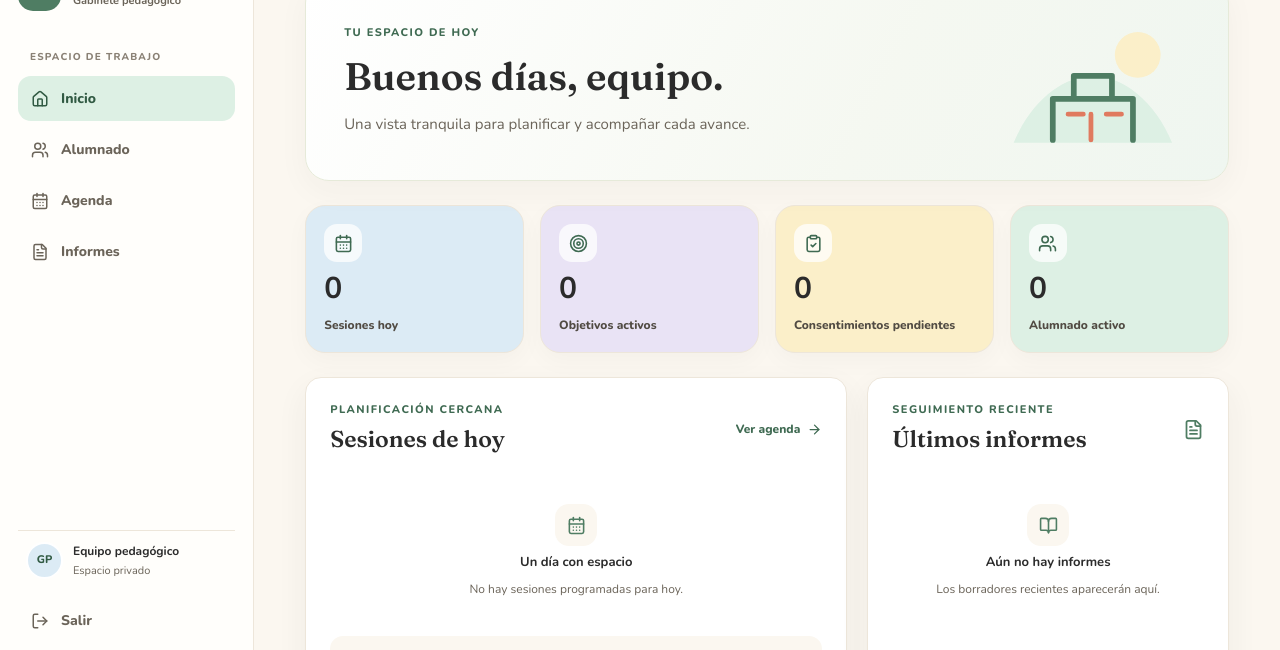
Apoyo › hides material adaptation when the adapter is disabled
What coordinates should you click on to do the following:
click the button "Alumnado"
I would click on:
 (126, 150)
Its box is [18, 127, 235, 172].
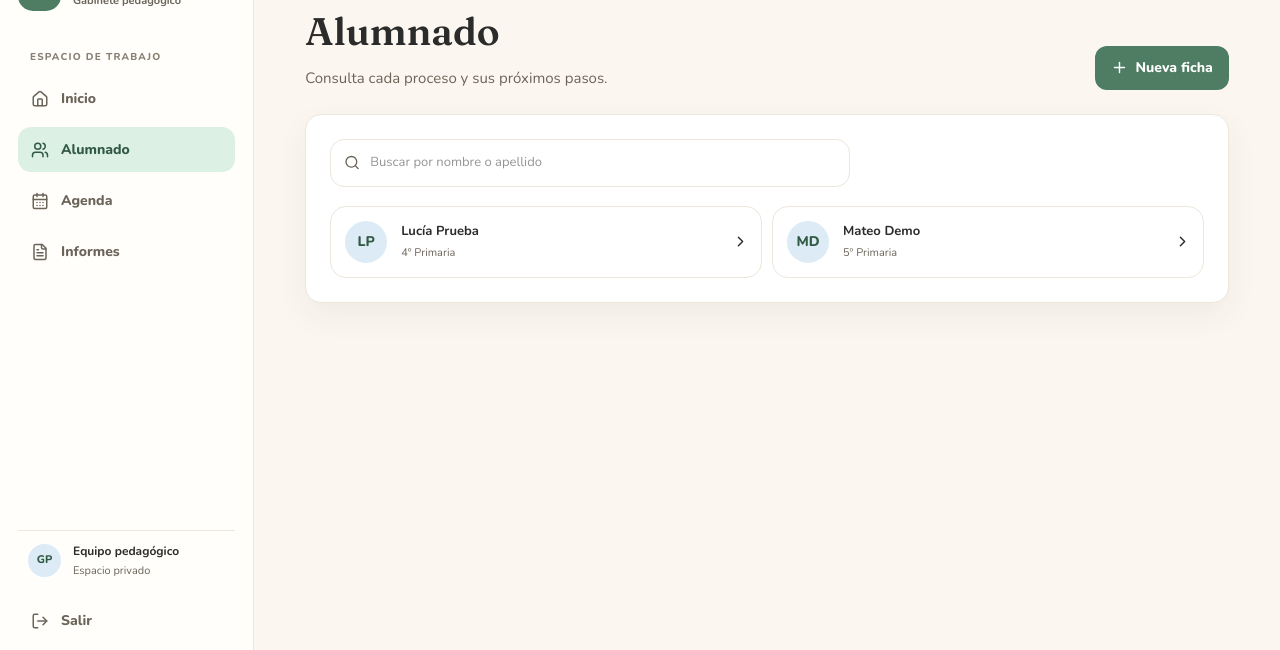
Now the text "Lucía Prueba" is shown
What coordinates should you click on to do the following:
click the text "Lucía Prueba"
I would click on:
 (440, 231)
Its box is [401, 222, 479, 240].
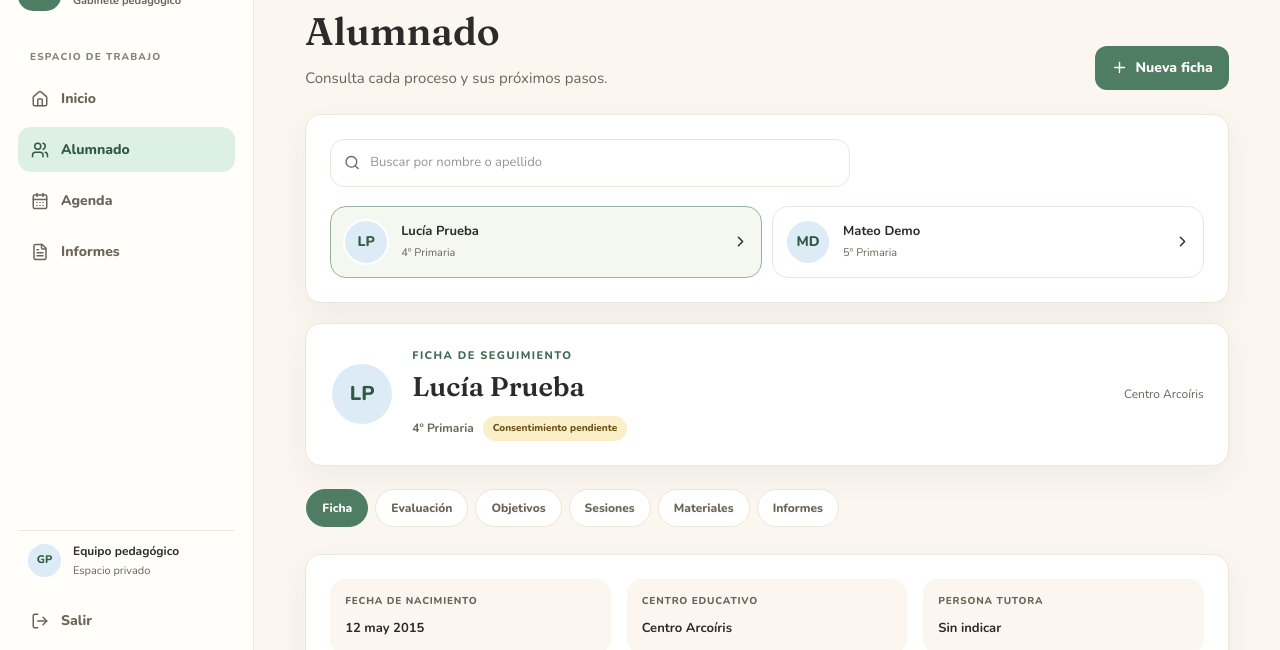
What coordinates should you click on to do the following:
click the button "Materiales"
I would click on:
 (704, 508)
Its box is [658, 489, 750, 527].
(page scrolled)
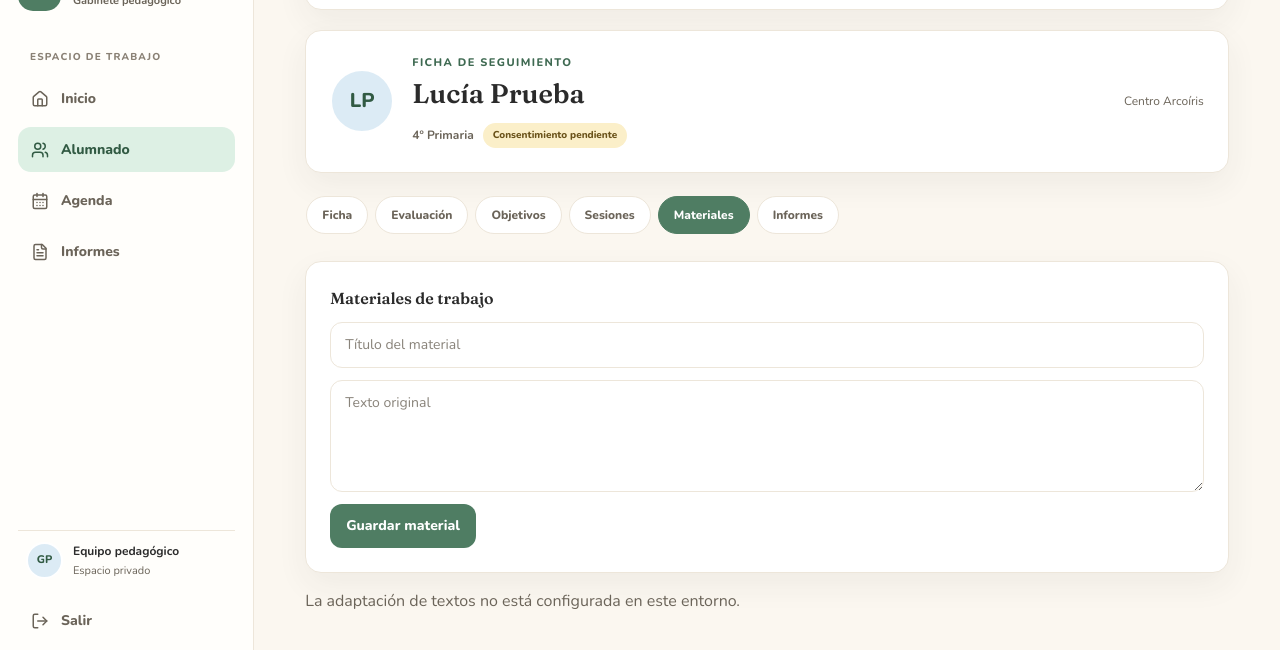
Now the text "La adaptación de textos no está configurada en este entorno." is shown, box [305, 590, 740, 612]
